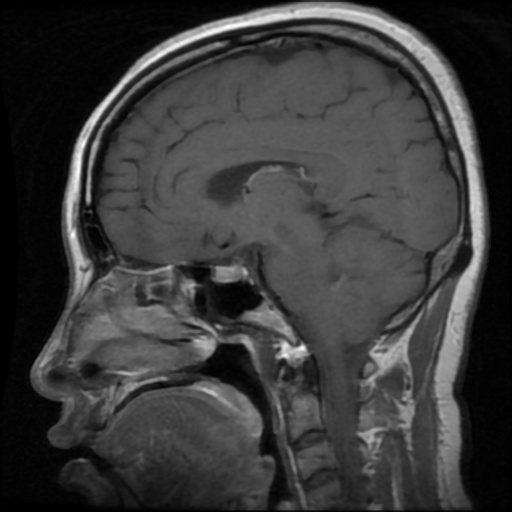pituitary: (211, 262, 248, 284)
